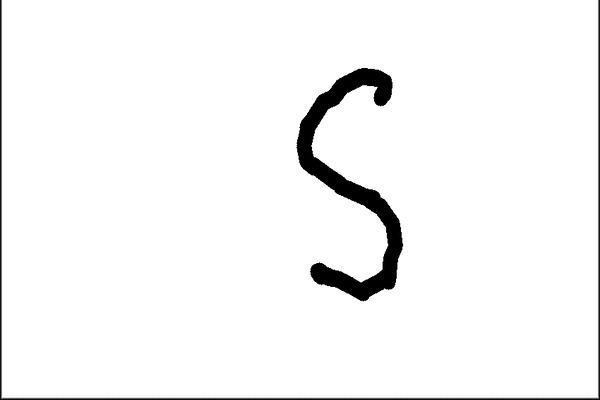S: (289, 64, 410, 303)
